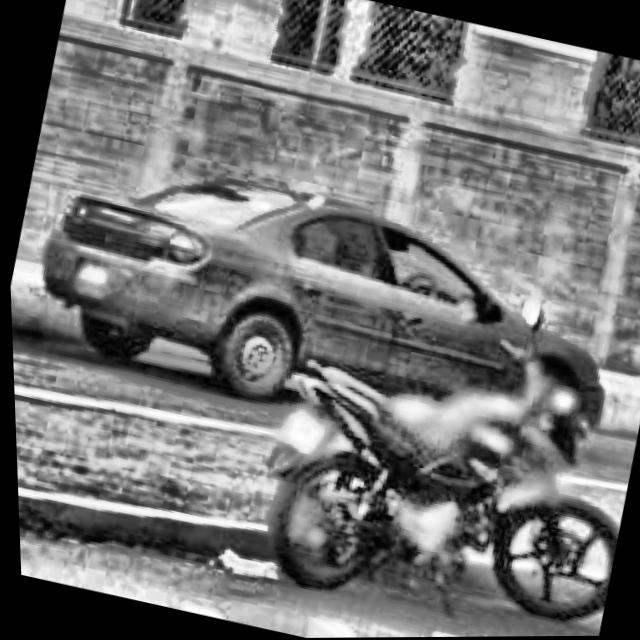motorcycle: (242, 241, 640, 639)
